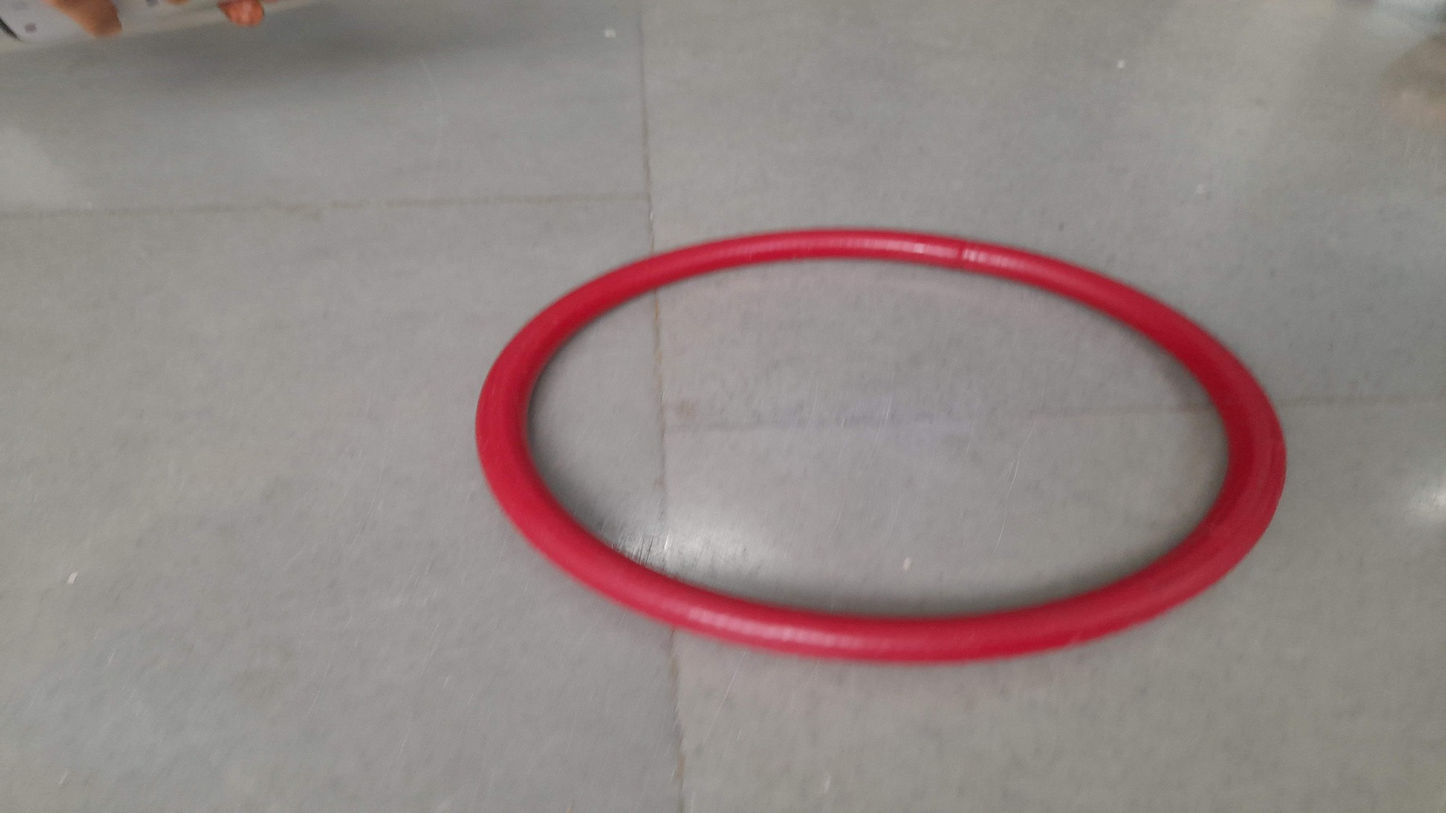Red ring: (471, 229, 1286, 659)
